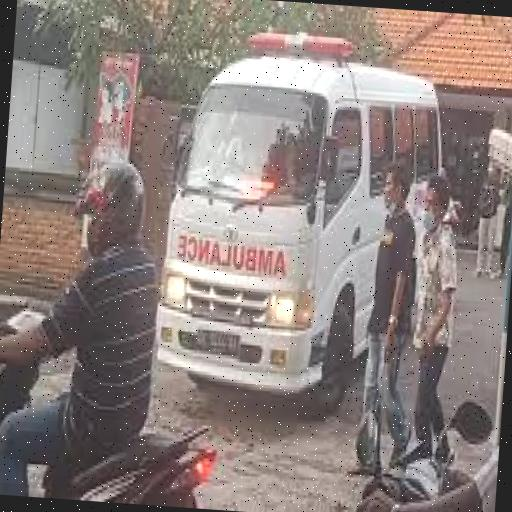Police car: (146, 20, 452, 418)
